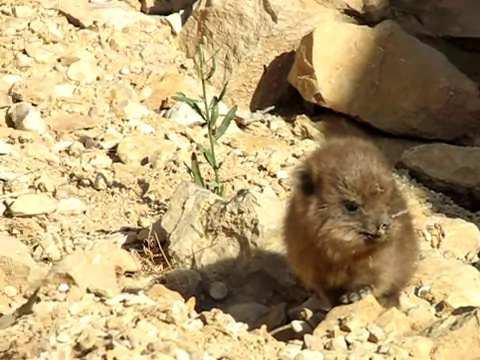Rock Hyrex: (289, 140, 416, 310)
